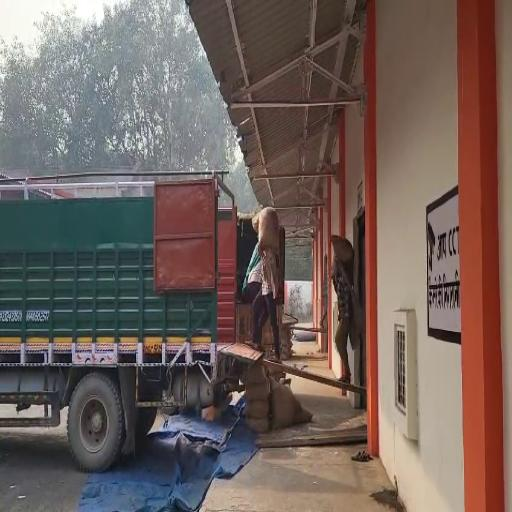bag: (254, 205, 284, 253), (328, 231, 356, 280)
